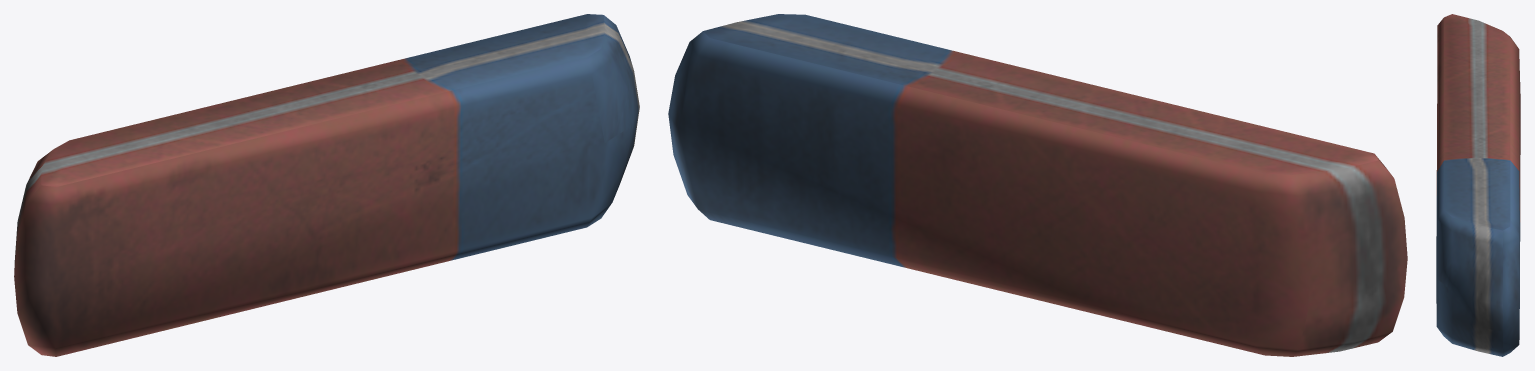
Rendered from Eraser.fbx.
3 renders of one model, left to right at view 1: azimuth 30°, elevation 25°; view 2: azimuth 150°, elevation 25°; view 3: azimuth 270°, elevation 25°, orthographic. The views are drawn at different scales.
Visible parts, largest first — view 1: Eraser; view 2: Eraser; view 3: Eraser.
Part boxes in pixels (<box>): Eraser: <box>14,14,639,356</box>; Eraser: <box>668,14,1407,356</box>; Eraser: <box>1436,14,1520,356</box>.
Bounding box in the file's own units: 5.52 × 1.37 × 0.8262.
